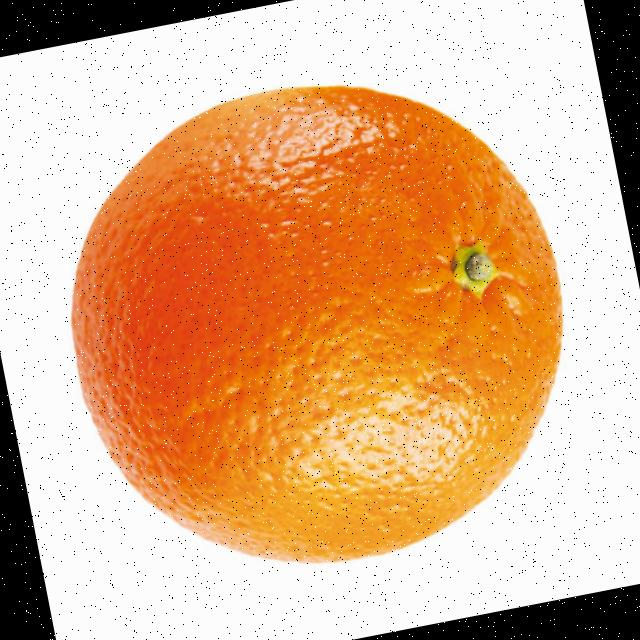Ripe: (24, 35, 615, 609)
